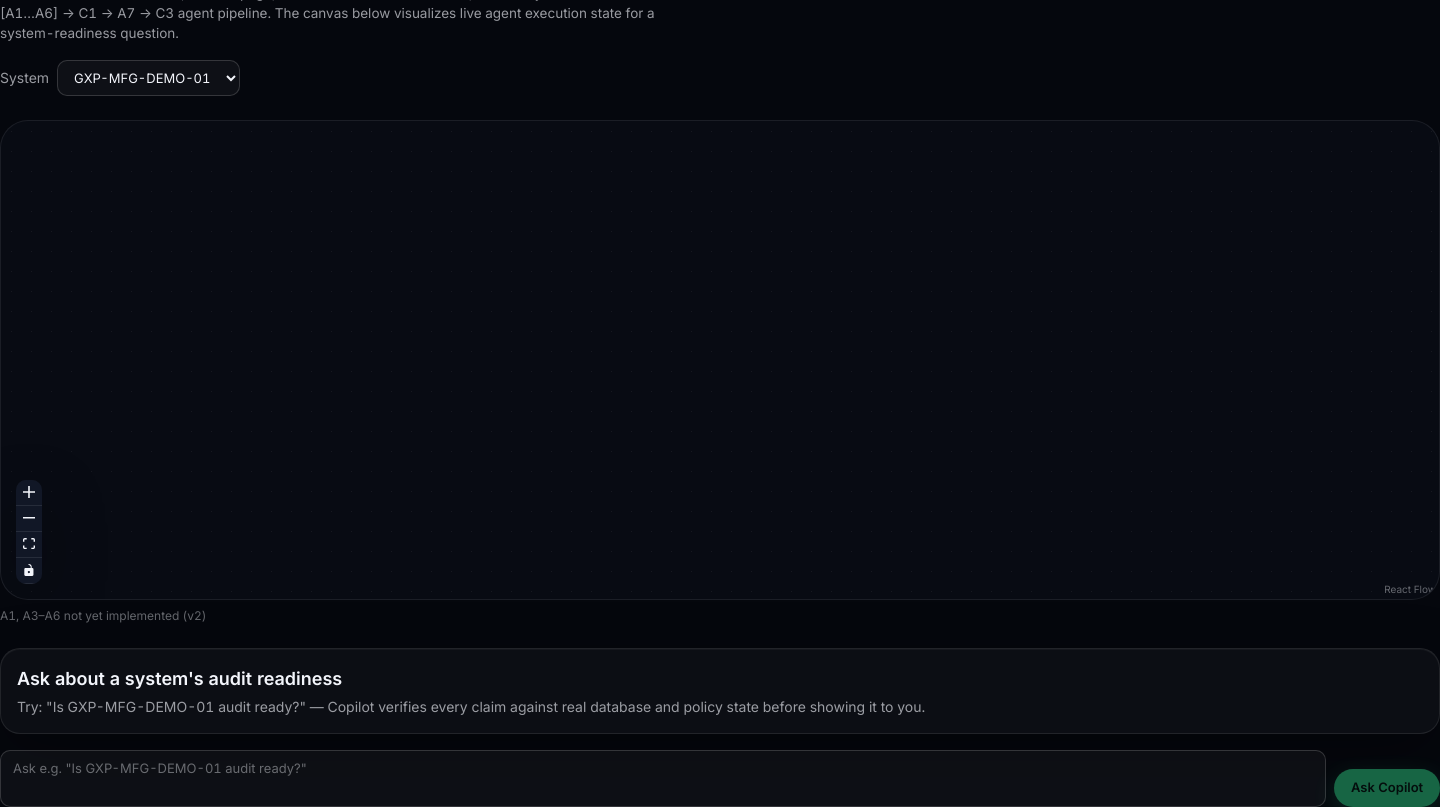
Copilot free-text investigation (plan 06.1-06, D-07: real investigateCopilot() call) › renders the answer, model attribution, trace toggle, and evidence view in order on a grounded response
(page scrolled)
Type "what's traced to URS-042?" into the text box with placeholder "Ask e.g. \"Is GXP-MFG-DEMO-01 audit ready?\"".
click(663, 778); type("what's traced to URS-042?")  # box [0, 750, 1326, 806]
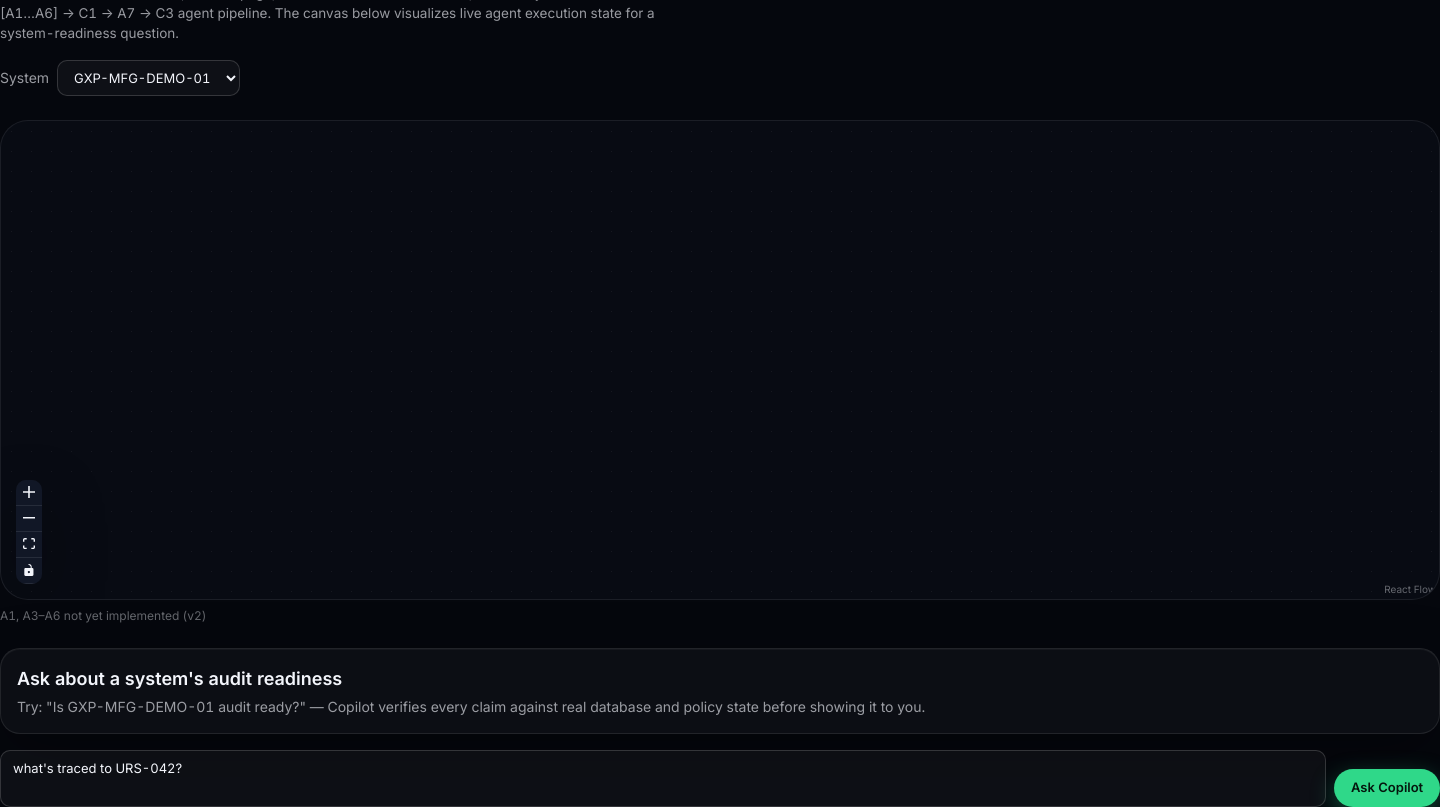
Click the button "Ask Copilot".
click(1387, 788)  # box [1334, 769, 1439, 806]
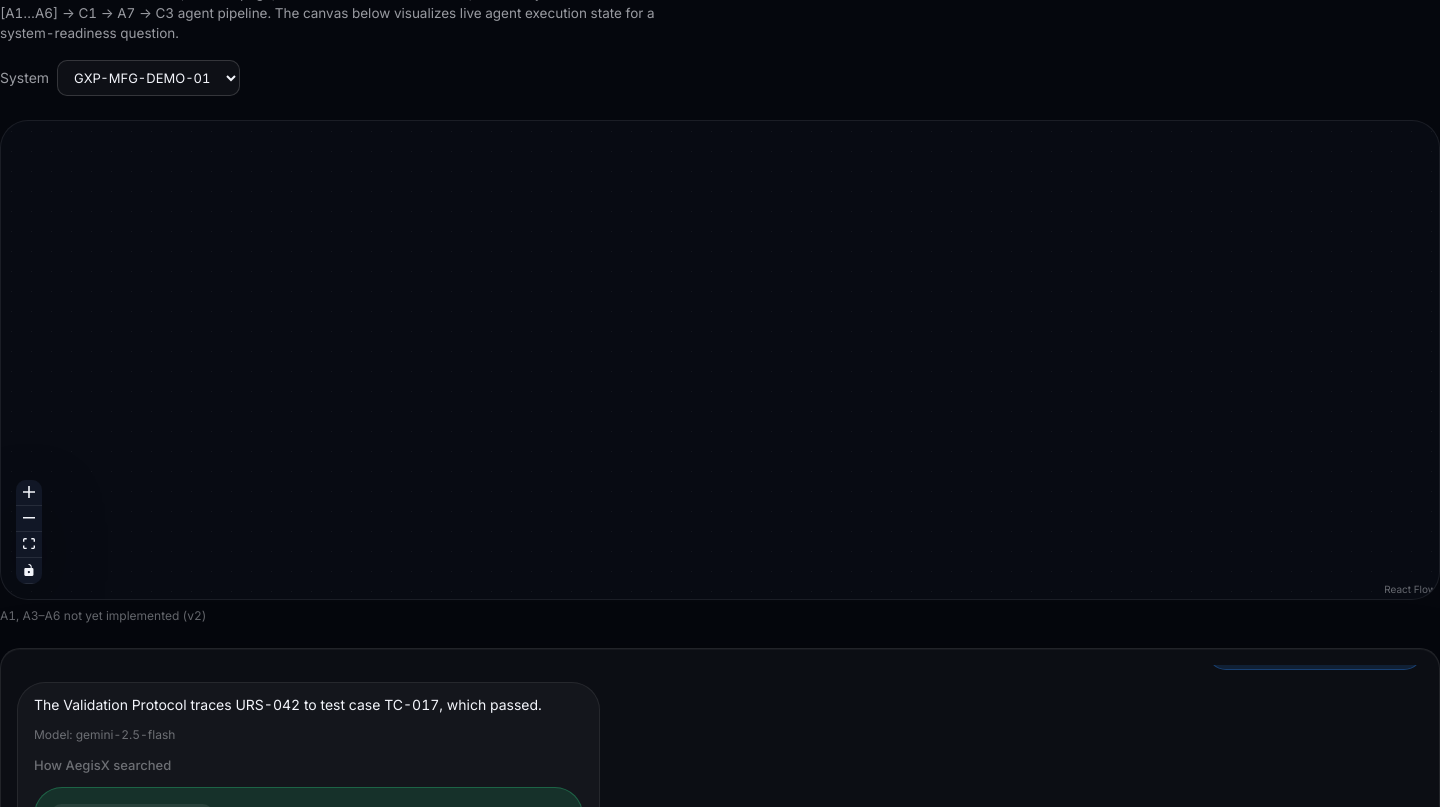
Expected: the text "The Validation Protocol traces URS-042 to test case TC-017, which passed." is shown, [34, 694, 583, 714]
